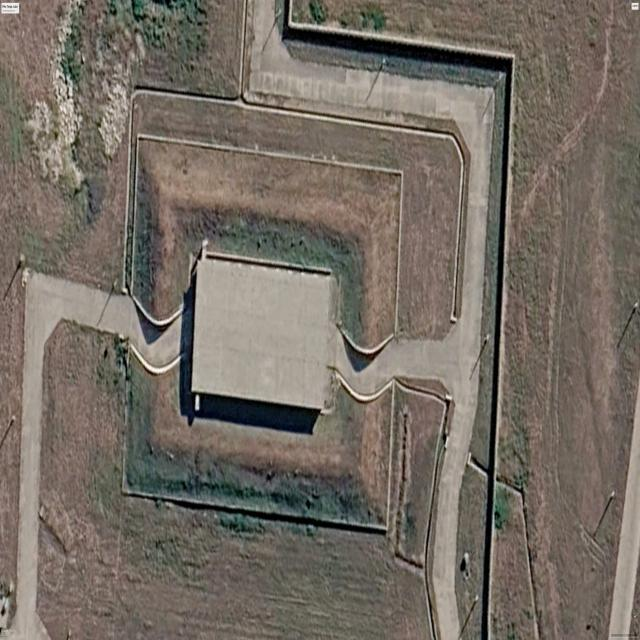Home: (191, 257, 335, 411)
